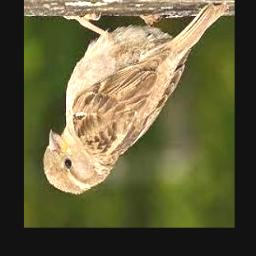Sparrow: (44, 2, 229, 195)
